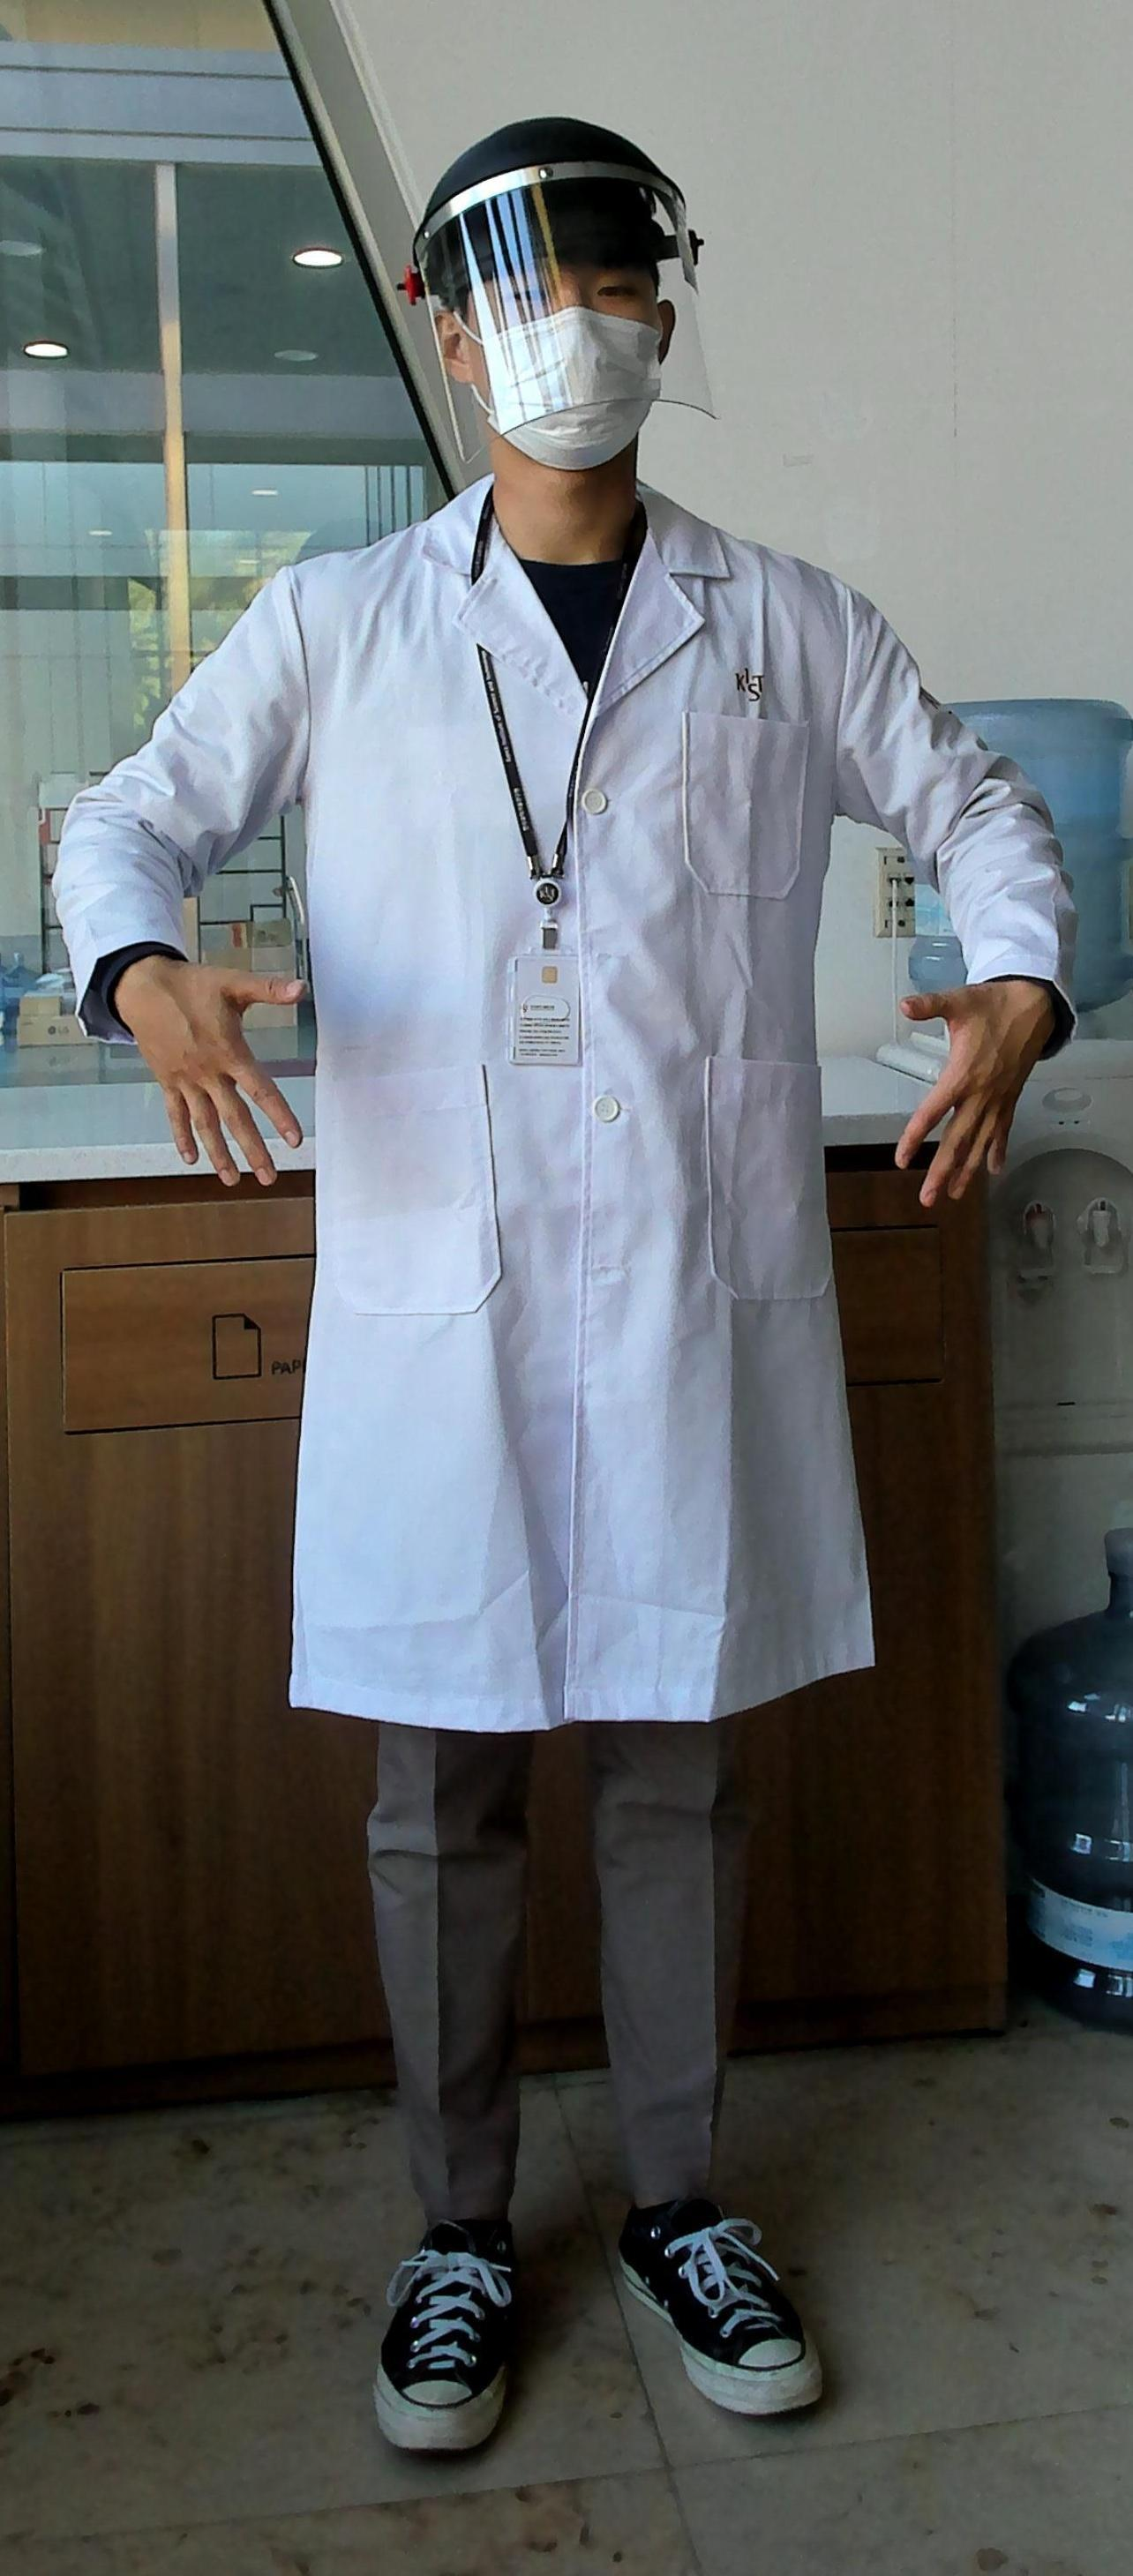lab_coat: (294, 596, 875, 1690)
